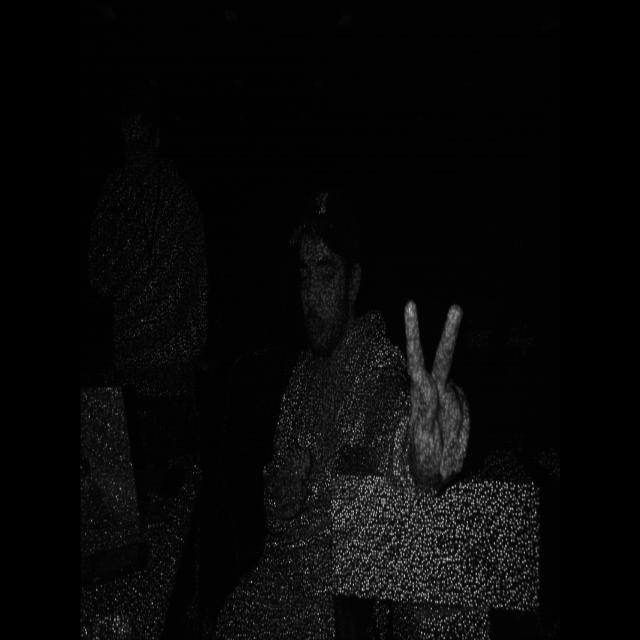K: (393, 279, 478, 498)
